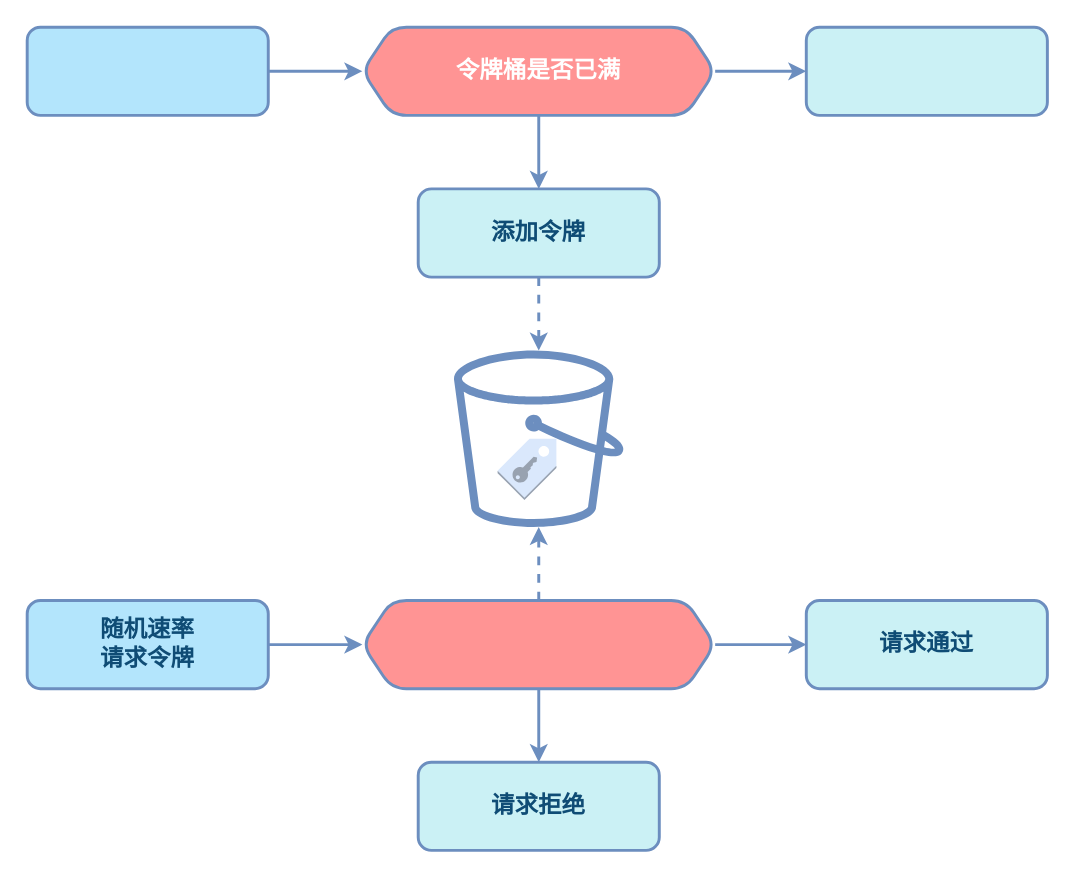
Image size: 1073x876. Some labels were removed from this diagram. The shapes that lost their labels are listed below. From the top down, each one's centre as x and y in pixels, then its label:
(x=147, y=70): 固定速率 放入令牌
(x=926, y=70): 丢弃令牌
(x=538, y=643): 桶中令牌数 大于申请令牌数
